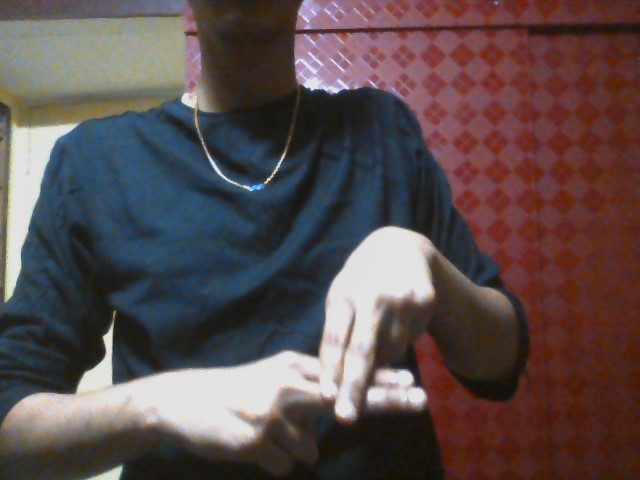F: (205, 247, 426, 475)
